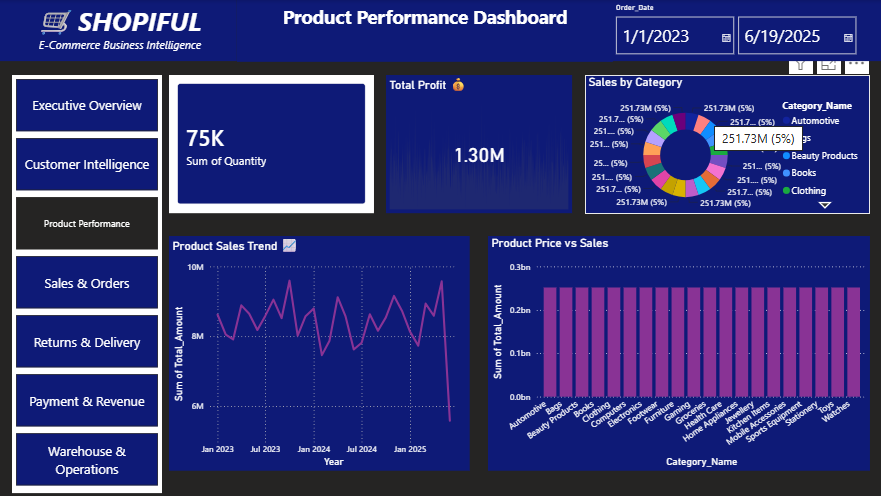

The dashboard page shown, as its layout file describes it:
{"tool":"powerbi","page":{"name":"Product Performance","canvas":[1280,720],"ordinal":2},"visuals":[{"type":"textbox","box":[0,0,341.3,87.8],"z":0},{"type":"cardVisual","fields":{"Data":["Sum(cartnova order_items.Quantity)"]},"box":[243.4,108,295.2,198.7],"z":1000},{"type":"lineChart","title":"Product Sales Trend 📈","fields":{"Y":["Sum(cartnova orders.Total_Amount)"],"Category":["cartnova orders.Order_Date.Variation.Date Hierarchy.Year","cartnova orders.Order_Date.Variation.Date Hierarchy.Month"]},"box":[243.4,339.8,433.4,338.4],"z":2000},{"type":"donutChart","title":"Sales by Category","fields":{"Category":["cartnova categories.Category_Name"],"Y":["Sum(cartnova orders.Total_Amount)"]},"box":[842.4,108,410.4,200.2],"z":3000},{"type":"columnChart","title":"Product Price vs Sales","fields":{"Category":["cartnova categories.Category_Name"],"Y":["Sum(cartnova orders.Total_Amount)"]},"box":[702.7,339.8,550.1,338.4],"z":4000},{"type":"kpi","title":"Total Profit 💰","fields":{"Indicator":["Sum(cartnova order_items.Profit)"],"TrendLine":["cartnova orders.Order_Date"]},"box":[555.8,108,267.8,198.7],"z":5000},{"type":"textbox","box":[341.3,0,541.4,89.3],"z":6000},{"type":"slicer","fields":{"Values":["cartnova orders.Order_Date"]},"box":[873.9,0,406.1,87.8],"z":7000},{"type":"pageNavigator","box":[17.3,108,216,601.9],"z":8000}]}

Visuals, with their boxes in screenshot pixels (x1, y1, x2, y2), scaled from the page's 1280x720 canvas onto the 881x496 screenshot:
textbox: x1=0 y1=0 x2=235 y2=60
cardVisual - Sum(cartnova order_items.Quantity): x1=168 y1=74 x2=371 y2=211
"Product Sales Trend 📈" lineChart: x1=168 y1=234 x2=466 y2=467
"Sales by Category" donutChart: x1=580 y1=74 x2=862 y2=212
"Product Price vs Sales" columnChart: x1=484 y1=234 x2=862 y2=467
"Total Profit 💰" kpi: x1=383 y1=74 x2=567 y2=211
textbox: x1=235 y1=0 x2=608 y2=62
slicer - cartnova orders.Order_Date: x1=601 y1=0 x2=880 y2=60
pageNavigator: x1=12 y1=74 x2=161 y2=489
